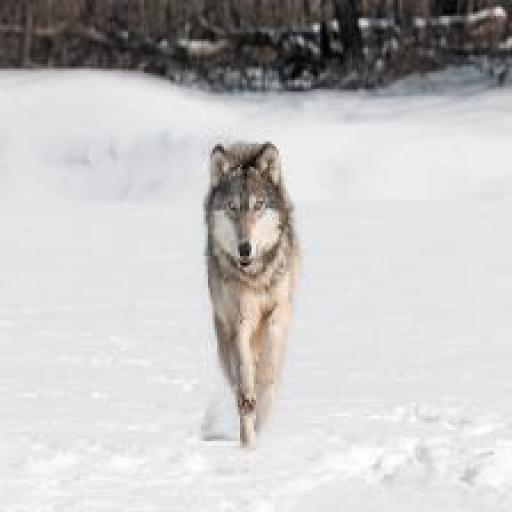wolf: (192, 121, 315, 465)
